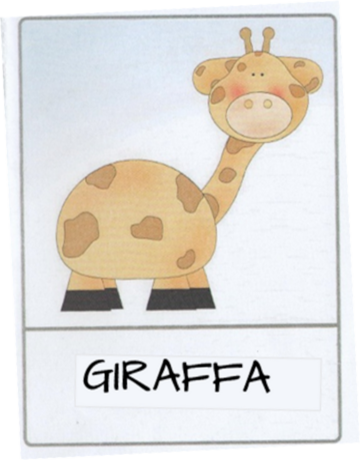giraffa: (28, 17, 345, 426)
